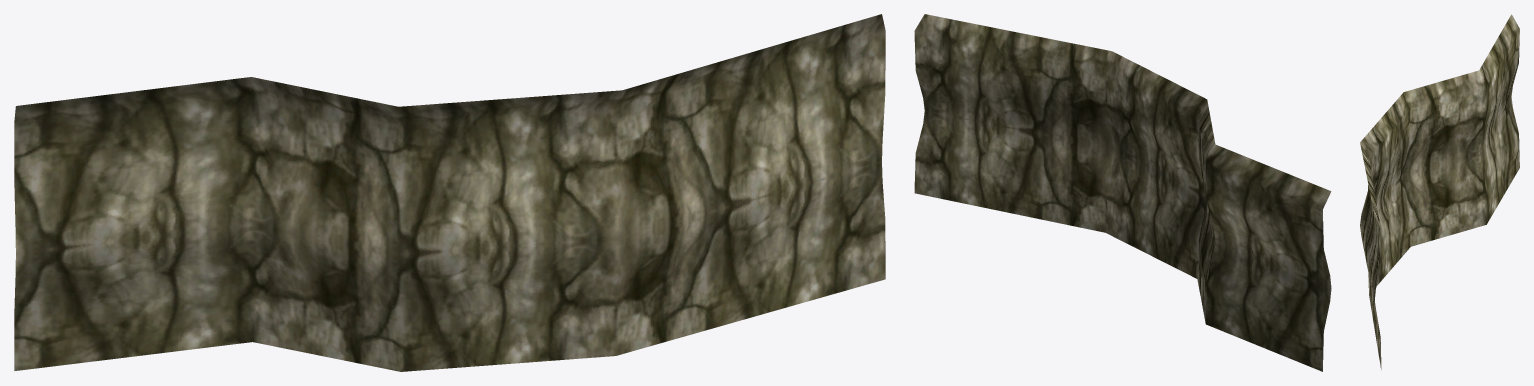
The model's file is CB_NEWPLAYSURFACE_CB_PLAYSURFACE44.fbx.
The picture shows the model from 3 angles, left to right: view 1: azimuth 30°, elevation 25°; view 2: azimuth 150°, elevation 25°; view 3: azimuth 270°, elevation 25°; orthographic projection. The views are drawn at different scales.
Parts seen in each view (by area): view 1: CB_NEWPLAYSURFACE_CB_PLAYSURFACE44; view 2: CB_NEWPLAYSURFACE_CB_PLAYSURFACE44; view 3: CB_NEWPLAYSURFACE_CB_PLAYSURFACE44.
Part boxes in pixels (box(x1,y1,x2,y2)): CB_NEWPLAYSURFACE_CB_PLAYSURFACE44: box(14, 14, 885, 371); CB_NEWPLAYSURFACE_CB_PLAYSURFACE44: box(914, 14, 1331, 371); CB_NEWPLAYSURFACE_CB_PLAYSURFACE44: box(1360, 14, 1519, 369).
Size of the model in its own units: 213178 by 73541 by 70049.
Materials: 1 (1 with a texture image).
